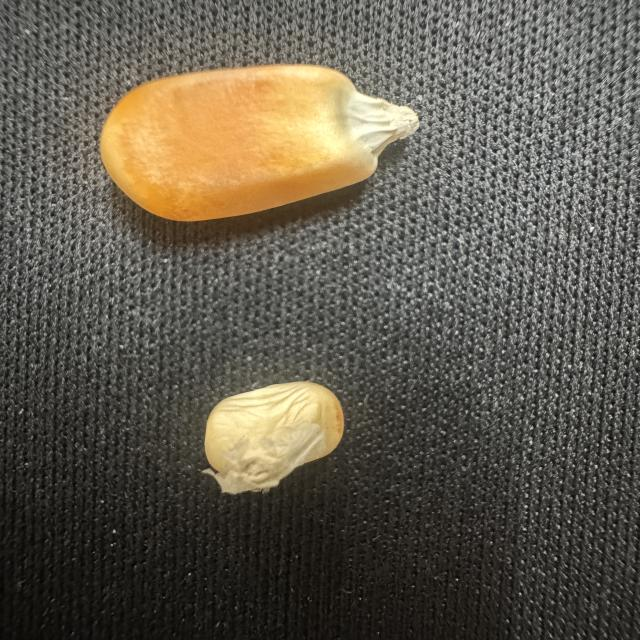Bad-Seed: (193, 376, 352, 496)
Good-Seed: (87, 61, 443, 228)
